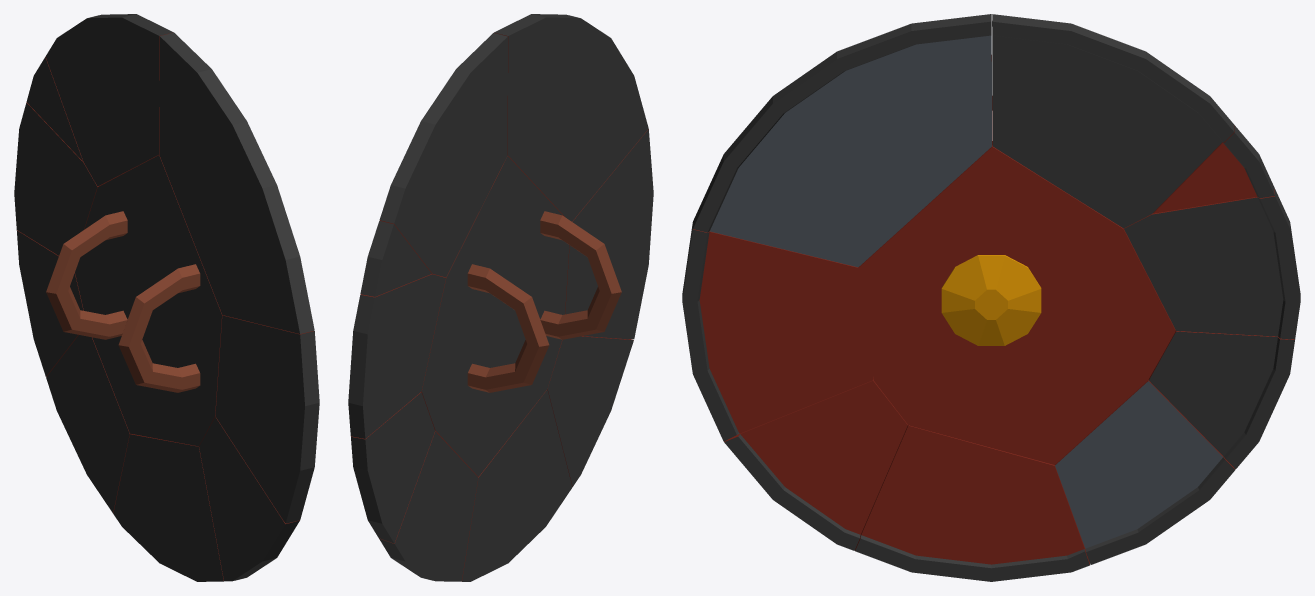
File: Shield_broken.fbx
3 views of the same model, side by side, from view 1: azimuth 30°, elevation 25°; view 2: azimuth 150°, elevation 25°; view 3: azimuth 270°, elevation 25° (orthographic). The views are drawn at different scales.
Parts seen in each view (by area): view 1: Shield_cell.009, Shield_cell.005, Shield_cell.001, Shield_cell.004, Shield_cell.007, Shield_cell.003, Shield_cell.008, Shield_cell, Shield.001, Shield.003, Shield_cell.006, Shield_cell.002; view 2: Shield_cell.005, Shield_cell.009, Shield_cell.004, Shield_cell.007, Shield_cell.008, Shield_cell.001, Shield_cell, Shield_cell.003, Shield_cell.006, Shield.003, Shield.001, Shield_cell.002; view 3: Shield_cell.005, Shield_cell.009, Shield_cell.004, Shield_cell.001, Shield_cell.007, Shield_cell.008, Shield_cell, Shield_cell.003, Shield_cell.006, Shield.002, Shield_cell.002.
Part boxes in pixels (bbox=[...]): Shield_cell.009: bbox=[159, 32, 314, 333]; Shield_cell.005: bbox=[75, 155, 222, 446]; Shield_cell.001: bbox=[215, 315, 319, 523]; Shield_cell.004: bbox=[45, 14, 173, 186]; Shield_cell.007: bbox=[113, 434, 223, 581]; Shield_cell.003: bbox=[199, 417, 299, 581]; Shield_cell.008: bbox=[14, 102, 98, 255]; Shield_cell: bbox=[46, 335, 130, 513]; Shield.001: bbox=[118, 264, 200, 392]; Shield.003: bbox=[46, 211, 127, 339]; Shield_cell.006: bbox=[16, 230, 83, 376]; Shield_cell.002: bbox=[26, 57, 83, 161]; Shield_cell.005: bbox=[421, 156, 569, 476]; Shield_cell.009: bbox=[494, 14, 648, 221]; Shield_cell.004: bbox=[379, 33, 507, 277]; Shield_cell.007: bbox=[461, 389, 572, 581]; Shield_cell.008: bbox=[348, 274, 445, 438]; Shield_cell.001: bbox=[565, 129, 653, 339]; Shield_cell: bbox=[379, 431, 478, 581]; Shield_cell.003: bbox=[547, 336, 633, 486]; Shield_cell.006: bbox=[351, 392, 434, 543]; Shield.003: bbox=[467, 264, 549, 392]; Shield.001: bbox=[540, 211, 621, 339]; Shield_cell.002: bbox=[360, 221, 431, 296]; Shield_cell.005: bbox=[859, 141, 1175, 464]; Shield_cell.009: bbox=[693, 14, 992, 267]; Shield_cell.004: bbox=[992, 14, 1234, 228]; Shield_cell.001: bbox=[682, 222, 872, 441]; Shield_cell.007: bbox=[855, 425, 1089, 581]; Shield_cell.008: bbox=[1124, 188, 1300, 339]; Shield_cell: bbox=[1055, 380, 1235, 564]; Shield_cell.003: bbox=[724, 377, 907, 550]; Shield_cell.006: bbox=[1148, 330, 1294, 469]; Shield.002: bbox=[941, 255, 1041, 345]; Shield_cell.002: bbox=[1153, 125, 1274, 213].
Size of the model in its own units: 0.3889 by 2 by 2.
